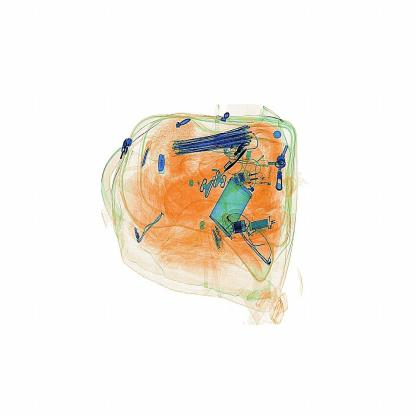pliers: (136, 138, 154, 173)
